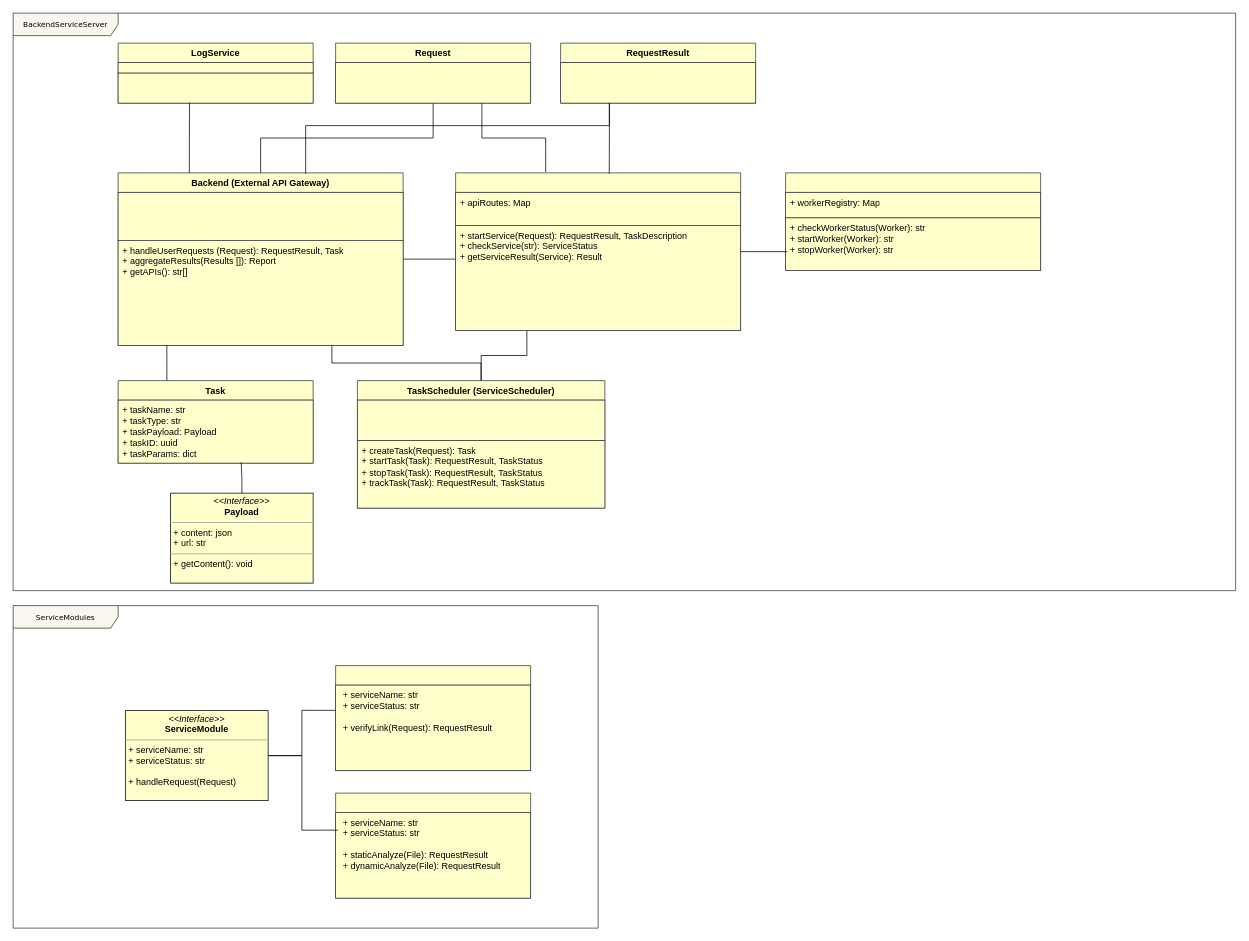
The diagram is 1249 pixels wide and 941 high, and some of its shapes have lost their labels. Here are the shapes that lost their labels. From the top down, the box of each, then its label:
(117, 72, 313, 103): + log(str, level): void
(335, 62, 531, 103): + requestedService: str + payload: json
(560, 62, 756, 103): + requestStatus: str + requestMsg: str
(117, 192, 403, 240): + apiRoutes: Map + logger: LogService + taskScheduler: TaskScheduler
(785, 172, 1041, 270): WorkerScheduler (ContainerOrchestrator)
(455, 172, 741, 330): ServiceServer (Internal API Gateway)
(357, 399, 605, 441): + taskRegistry: Map + taskQueue: Queue + logger: LogService
(335, 665, 531, 771): LinkVerifier
(335, 792, 531, 898): FileAnalyzer
